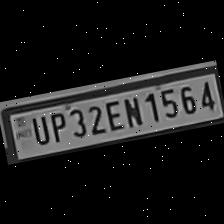1: (139, 89, 160, 124)
2: (82, 99, 107, 136)
3: (64, 103, 89, 139)
4: (193, 76, 218, 112)
5: (154, 84, 180, 120)
6: (174, 80, 198, 115)
E: (101, 96, 125, 132)
N: (119, 92, 145, 128)
P: (44, 108, 68, 144)
U: (26, 111, 50, 146)
